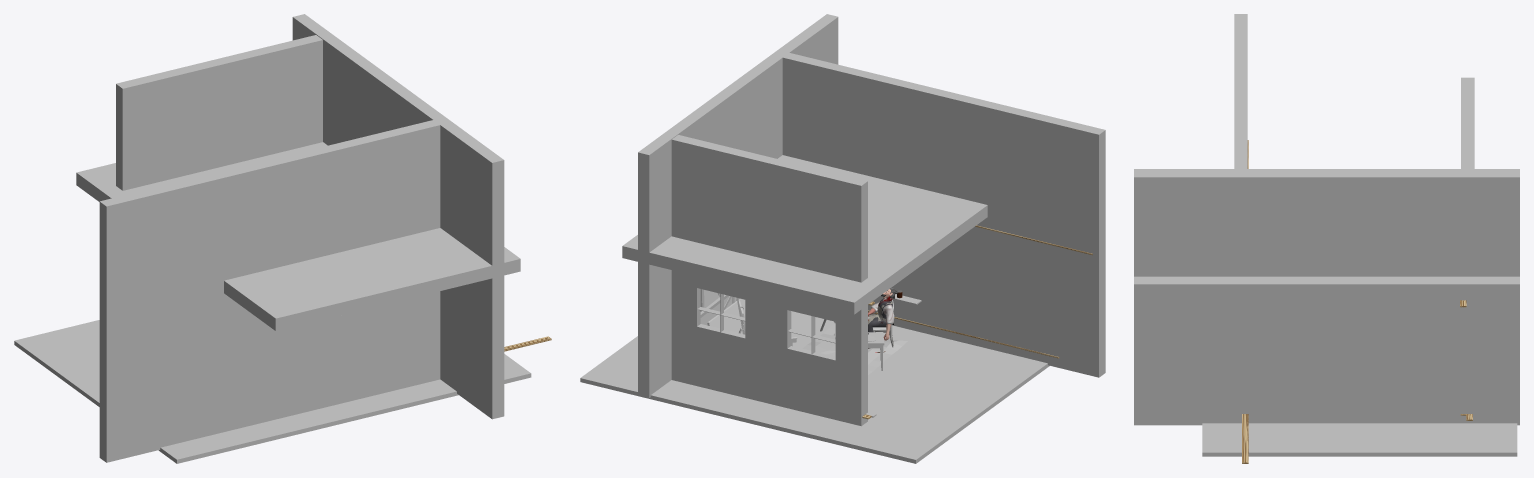
The model's file is Workshop.fbx.
3 views of the same model, side by side, from view 1: azimuth 30°, elevation 25°; view 2: azimuth 150°, elevation 25°; view 3: azimuth 270°, elevation 25° (orthographic). The views are drawn at different scales.
Visible parts, largest first — view 1: Duvar-3.001, Duvar-3, Duvar-1, Duvar-3.002, Cube.029; view 2: Duvar-3.001, Duvar-1, Cube.029, Duvar-3.002, Duvar-3, Plane, Characteer, Cube.023; view 3: Duvar-3, Cube.029, Duvar-3.002, Duvar-3.001, Duvar-1.
Boxes of the visible parts, <box> form: Duvar-3.001: <box>99,117,451,462</box>; Duvar-3: <box>292,14,504,419</box>; Duvar-1: <box>116,35,322,190</box>; Duvar-3.002: <box>76,142,520,330</box>; Cube.029: <box>14,320,531,463</box>; Duvar-3.001: <box>773,50,1105,377</box>; Duvar-1: <box>671,135,867,426</box>; Cube.029: <box>580,311,1049,463</box>; Duvar-3.002: <box>622,155,987,314</box>; Duvar-3: <box>638,14,838,397</box>; Plane: <box>802,325,907,374</box>; Characteer: <box>868,287,898,348</box>; Cube.023: <box>707,298,745,333</box>; Duvar-3: <box>1134,171,1519,425</box>; Cube.029: <box>1202,423,1517,456</box>; Duvar-3.002: <box>1134,169,1519,296</box>; Duvar-3.001: <box>1234,14,1247,171</box>; Duvar-1: <box>1461,77,1474,171</box>.
Size of the model in its own units: 1115 by 619 by 858.
